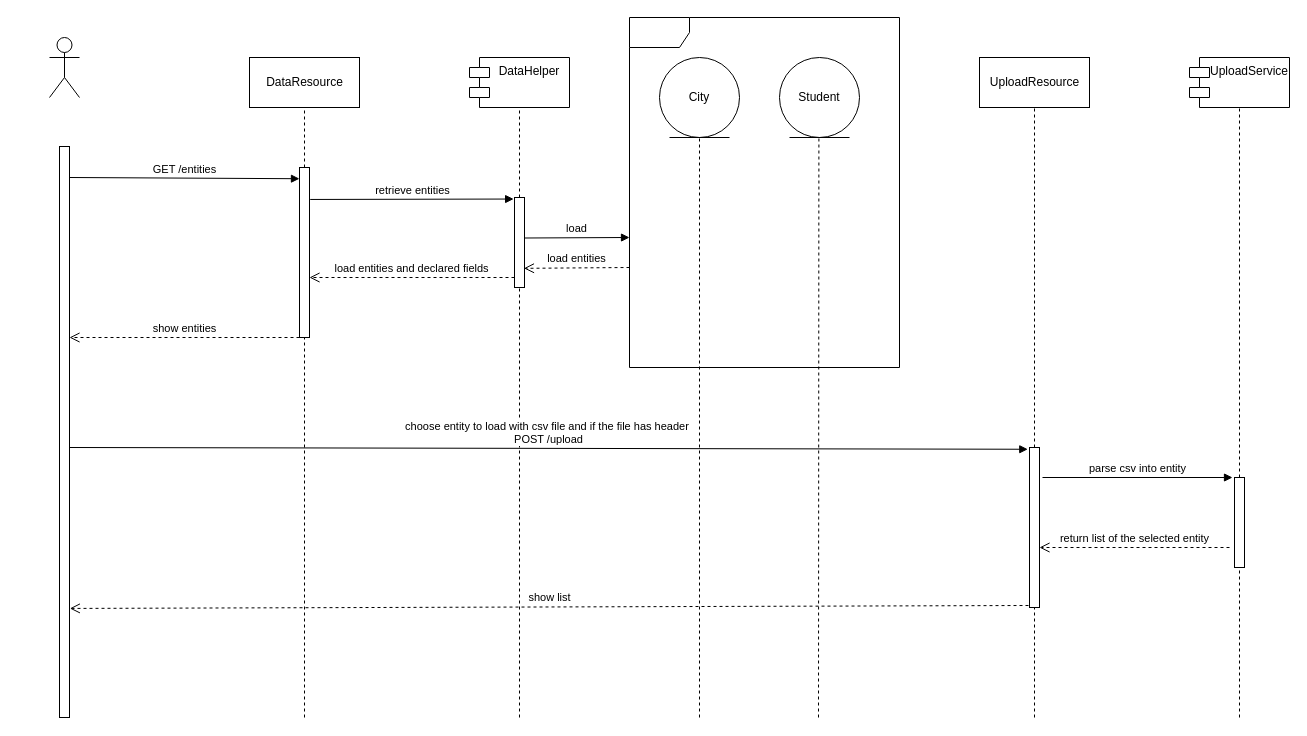
Some shapes in this 1307 by 736 pixel diagram are drawn without their labels. Each missing label, with the box of its shape:
ArchivadorPerson: (48, 36, 80, 98)
frame: (628, 16, 900, 368)
